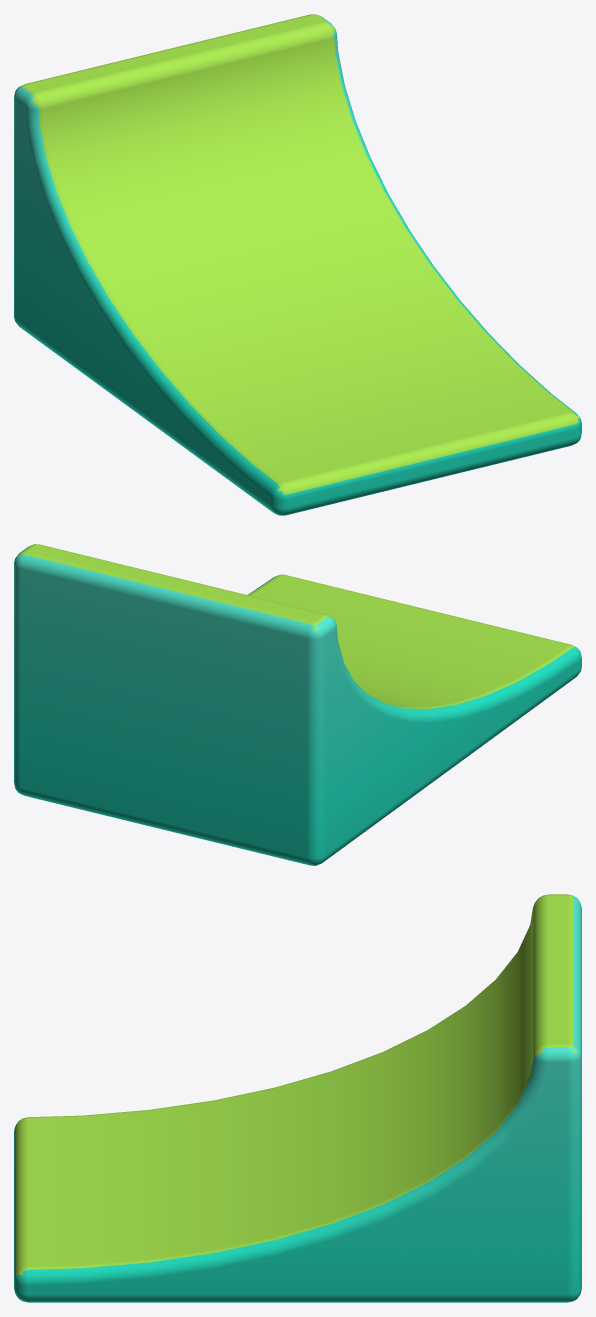
File: curved_ramp_4x6_h3.glb
3 views of the same model, one above another, from view 1: azimuth 30°, elevation 25°; view 2: azimuth 150°, elevation 25°; view 3: azimuth 270°, elevation 25° (orthographic). The views are drawn at different scales.
Parts seen in each view (by area): view 1: curved_ramp_4x6_h3; view 2: curved_ramp_4x6_h3; view 3: curved_ramp_4x6_h3.
Part boxes in pixels (x1,y1,x2,y2): curved_ramp_4x6_h3: (14, 14, 581, 515); curved_ramp_4x6_h3: (14, 544, 581, 865); curved_ramp_4x6_h3: (14, 894, 581, 1302).
Size of the model in its own units: 4 by 3 by 6.
1 material, 1 textured.
